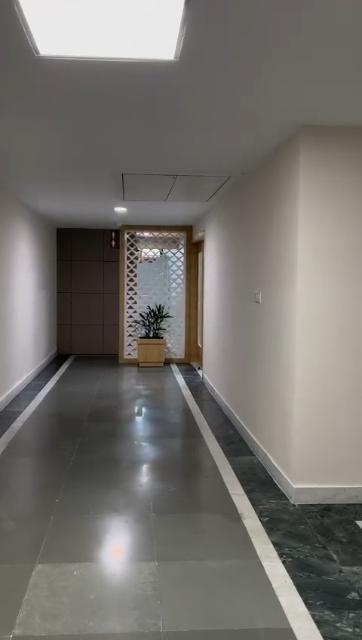door: (188, 244, 204, 362)
floor: (0, 353, 361, 639)
object: (135, 302, 173, 370)
wall: (204, 134, 297, 482), (290, 122, 360, 484), (0, 178, 58, 410)
